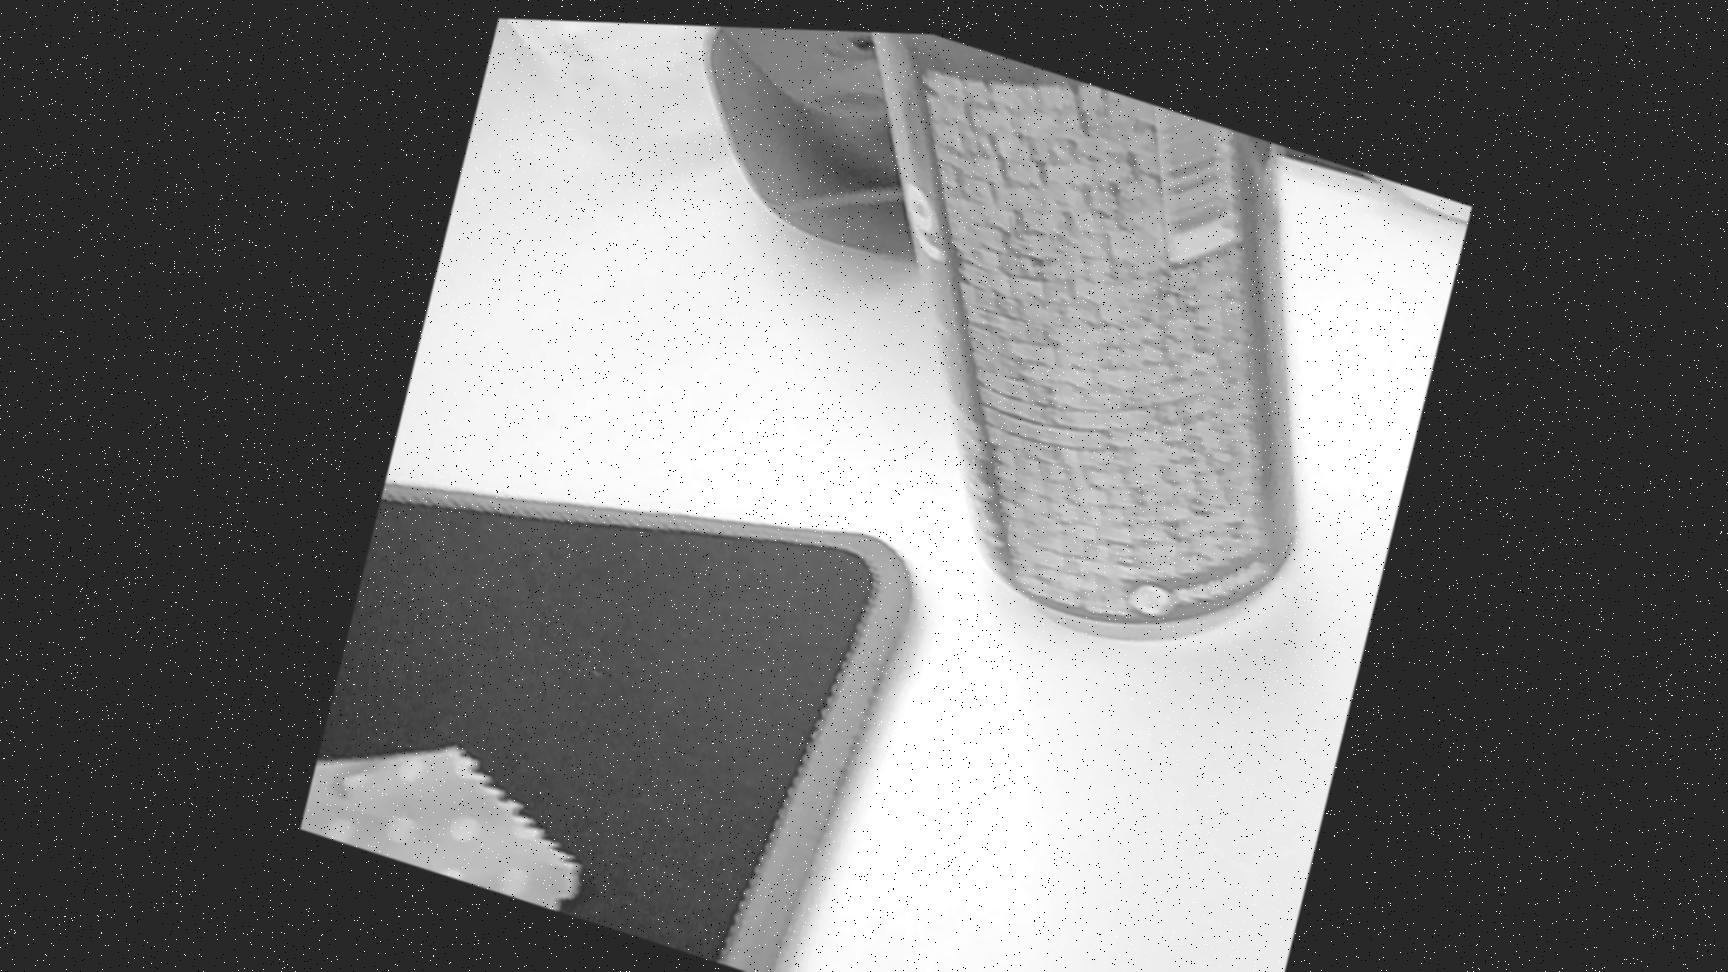letsbe: (700, 20, 1404, 685)
